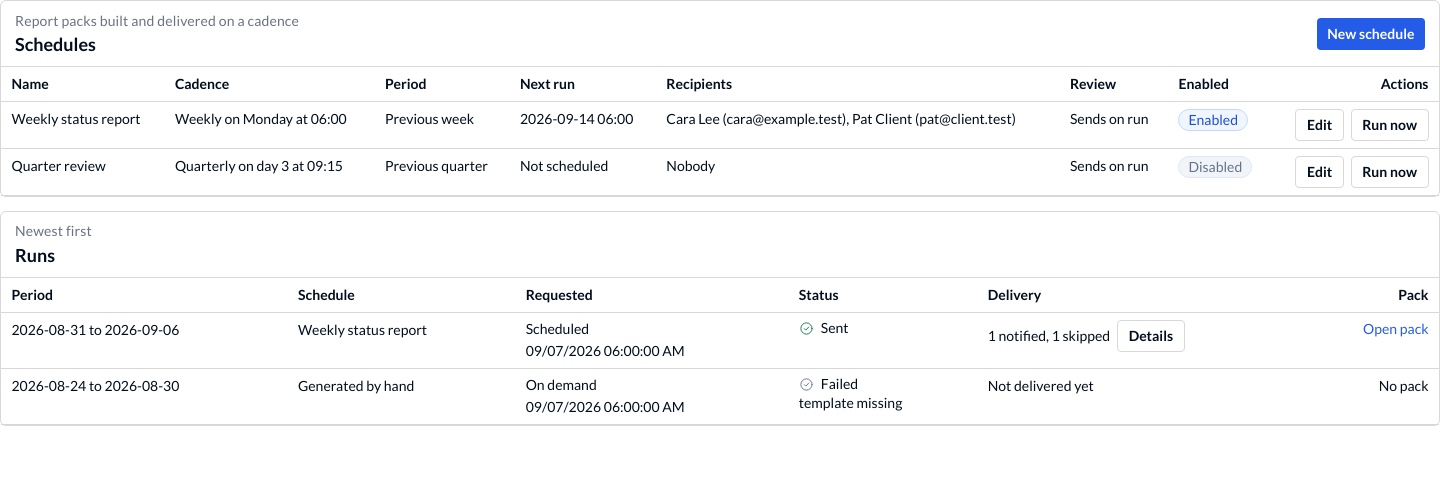
ReportSchedulesTab › lists the schedules with cadence, day, time, next run and enabled, and the runs with their delivery and pack
Expected: the row "Weekly status report" shows "Weekly on Monday at 06:00", [175,110,347,127]
Expected: the row "Weekly status report" shows "Previous week", [385,110,474,127]
Click the button "Details": (1151, 336) [1117,320,1185,352]
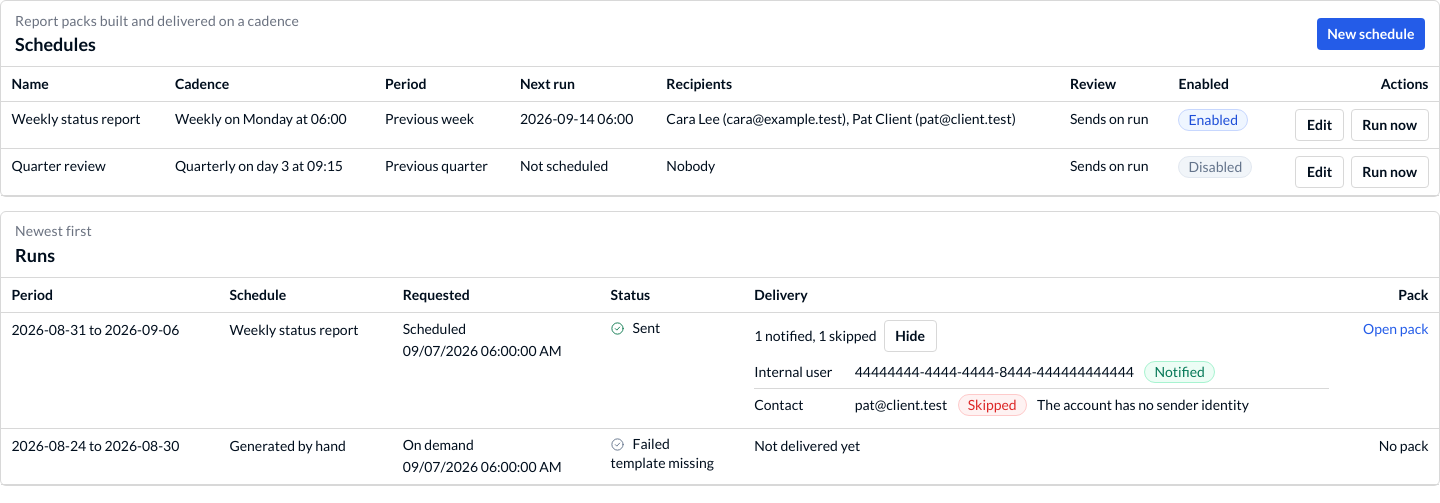
Expected: the list item "Internal user 44444444-4444-4444-8444-444444444444 Notified" is shown, [754,356,1329,389]
Expected: the list item that starts with "Contact" shows "pat@client.test", [855,396,947,413]
Expected: the list item that starts with "Contact" shows "The account has no sender identity", [1037,396,1249,413]
